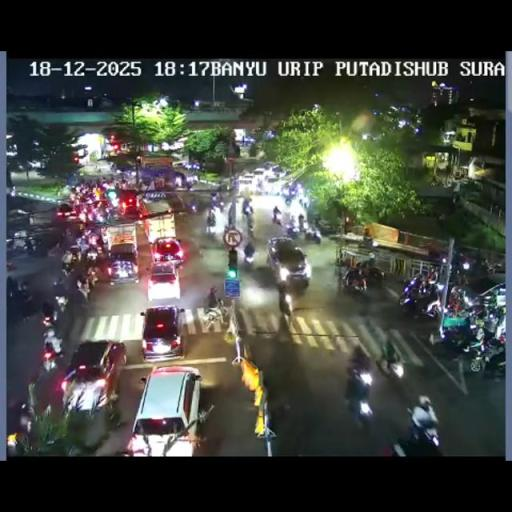Car: (126, 364, 205, 454), (59, 340, 127, 415), (138, 304, 186, 360), (265, 236, 310, 290), (146, 260, 182, 302), (106, 244, 140, 285), (150, 236, 185, 266), (117, 188, 143, 217), (55, 202, 75, 221), (237, 173, 254, 193), (176, 161, 202, 172), (266, 170, 280, 188), (252, 168, 266, 182), (262, 162, 276, 170)
Motorcycle: (270, 182, 315, 239), (344, 352, 373, 421), (436, 318, 479, 358), (400, 278, 442, 318), (406, 409, 440, 448), (475, 340, 506, 378), (200, 298, 229, 332), (378, 351, 405, 379), (342, 266, 368, 294), (40, 341, 61, 373), (80, 229, 105, 254), (446, 286, 468, 314), (18, 292, 38, 321), (72, 280, 91, 306), (452, 252, 474, 274), (24, 235, 46, 256), (18, 402, 32, 434), (278, 291, 292, 322), (468, 302, 489, 322), (354, 252, 376, 271), (41, 300, 57, 326), (60, 254, 78, 276), (86, 206, 106, 224), (483, 258, 505, 274), (473, 323, 487, 347), (47, 241, 64, 260), (6, 275, 18, 300), (54, 293, 68, 314), (454, 270, 470, 288), (286, 220, 300, 238), (425, 267, 438, 286), (243, 246, 255, 266), (244, 212, 254, 234), (222, 224, 232, 246), (310, 227, 322, 244), (88, 269, 98, 289), (362, 234, 376, 248), (206, 212, 216, 230), (272, 210, 282, 226), (255, 180, 265, 194), (229, 175, 237, 191), (299, 196, 308, 210), (188, 201, 198, 213), (242, 202, 252, 214), (185, 178, 193, 192), (174, 174, 182, 188), (284, 194, 293, 206), (228, 210, 234, 228), (298, 213, 304, 231), (78, 211, 87, 223), (218, 200, 226, 213), (314, 213, 320, 227), (216, 182, 223, 194)
